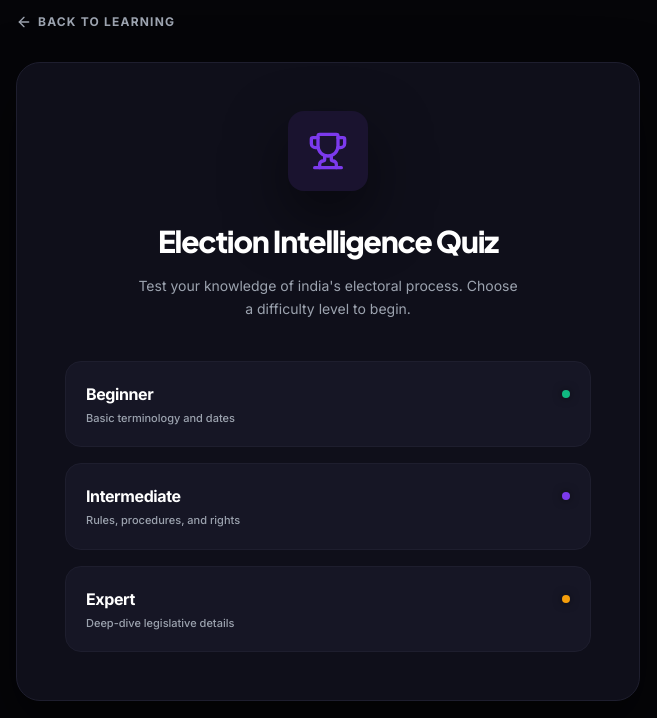
Test: Quiz Page › completes quiz and shows results with leaderboard
This screenshot has width=657, height=718.
What coordinates should you click on to do the following:
click the text "Beginner"
I would click on:
 (120, 394)
Its box is [86, 382, 153, 406].
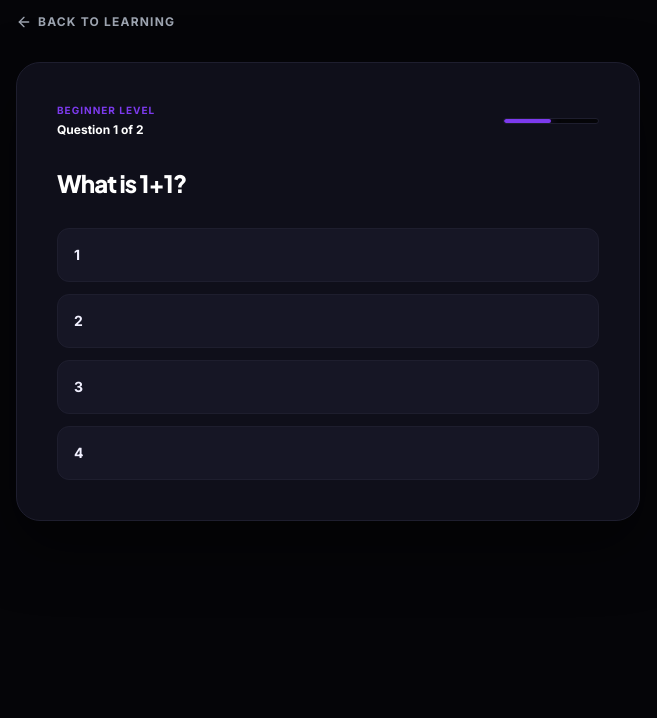
Q1: select "2"
What coordinates should you click on to do the following:
click the button "2"
I would click on:
 (78, 321)
Its box is [57, 294, 599, 348].
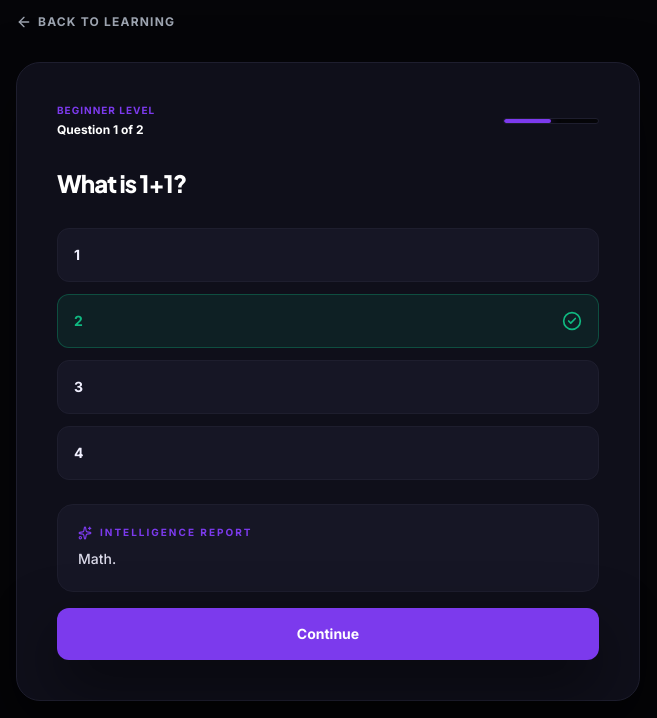
What coordinates should you click on to do the following:
click the button "Continue"
I would click on:
 (328, 634)
Its box is [57, 608, 599, 660].
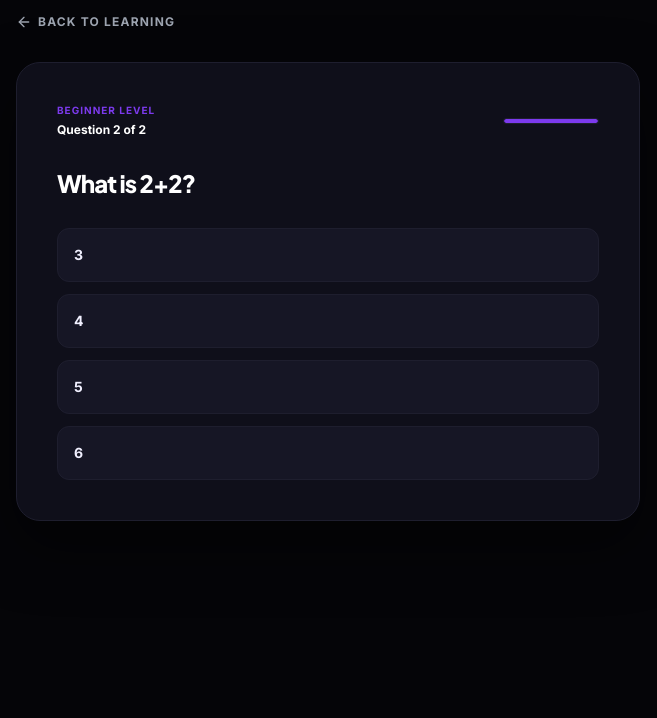
Q2: select "4"
What coordinates should you click on to do the following:
click the button "4"
I would click on:
 (79, 321)
Its box is [57, 294, 599, 348].
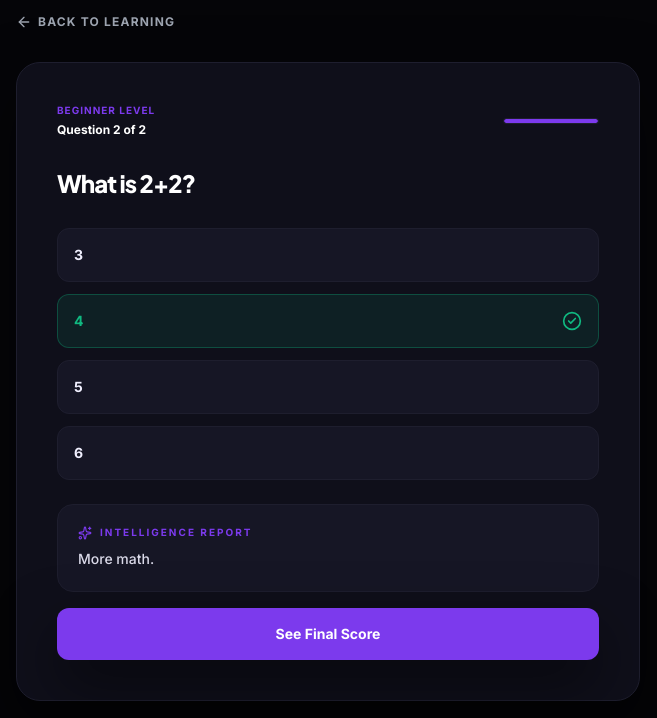
What coordinates should you click on to do the following:
click the button "See Final Score"
I would click on:
 (328, 634)
Its box is [57, 608, 599, 660].
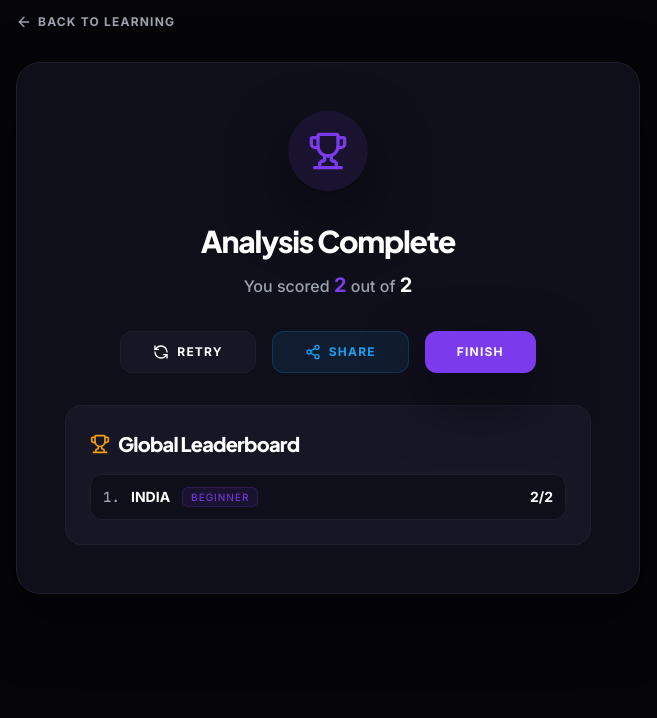
Now the text with test id "quiz-score" reads "2", box [334, 273, 346, 297]
Now the heading "Analysis Complete" is shown, box [201, 222, 455, 260]
Now the text "You scored 2 out of 2" is shown, box [244, 273, 412, 297]
